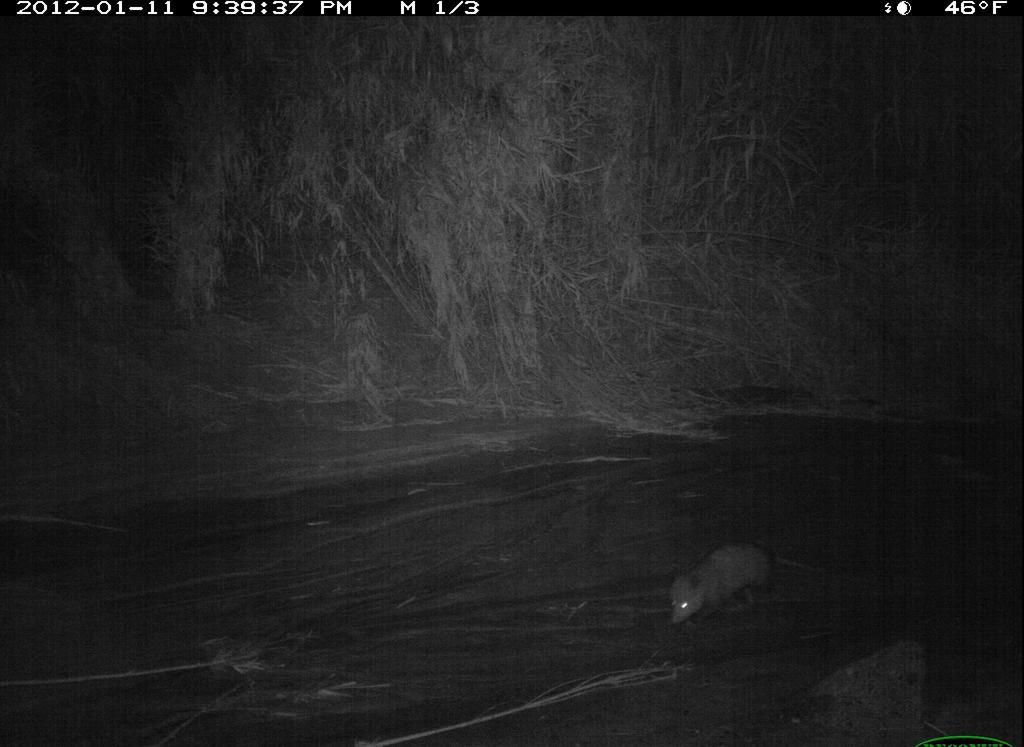opossum: (647, 534, 817, 633)
